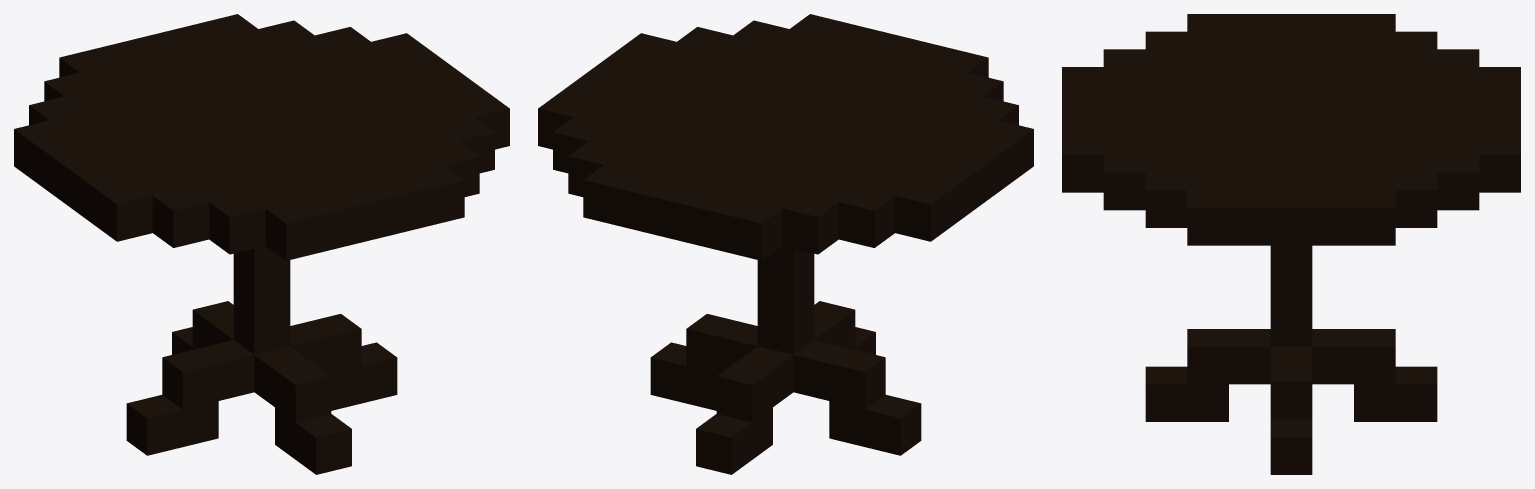
File: old peopl's room-0.obj
3 views of the same model, side by side, from view 1: azimuth 30°, elevation 25°; view 2: azimuth 150°, elevation 25°; view 3: azimuth 270°, elevation 25° (orthographic).
Bounding box in the file's own units: 1.1 × 0.8 × 1.1.
1 material, 1 textured.
